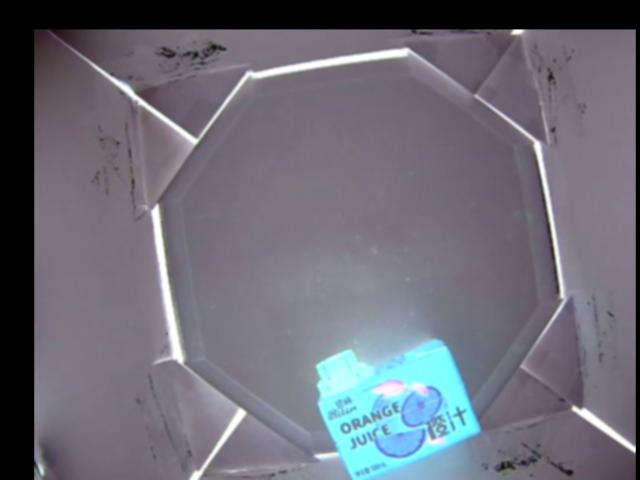Bottle: (313, 339, 485, 480)
